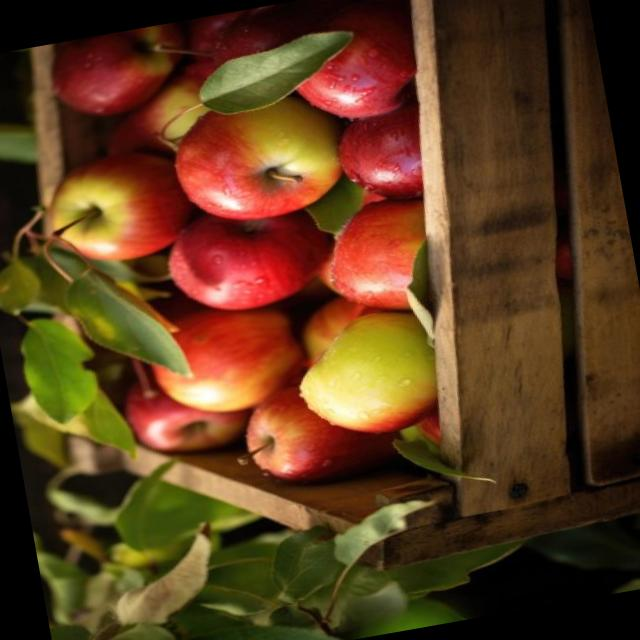apple_fruit: (163, 83, 344, 222), (276, 302, 440, 438), (45, 144, 195, 265), (164, 210, 326, 319), (151, 304, 303, 414), (314, 192, 417, 310)
